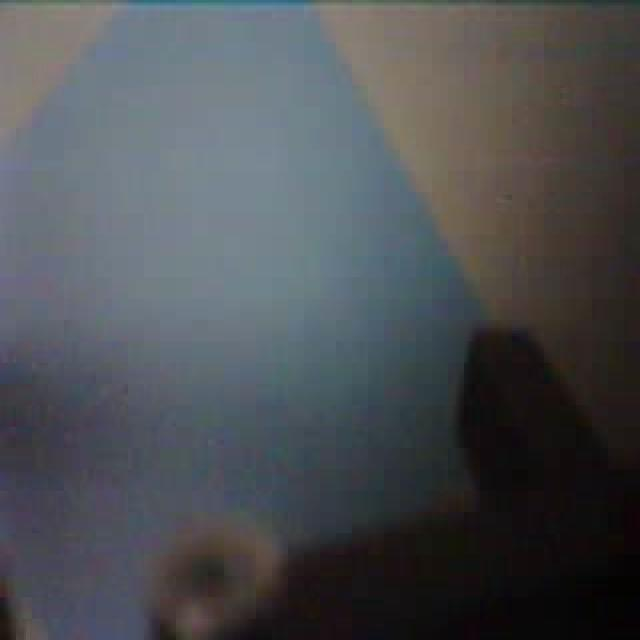blue_box: (2, 4, 500, 618)
